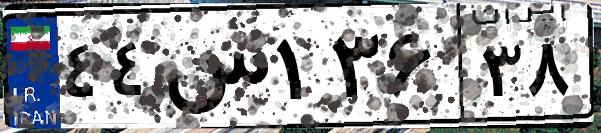1: (270, 28, 330, 110)
3: (330, 28, 385, 110), (475, 38, 525, 113)
4: (57, 26, 110, 100), (110, 28, 158, 98)
6: (385, 28, 445, 110)
8: (525, 38, 570, 115)
س: (158, 20, 270, 120)
